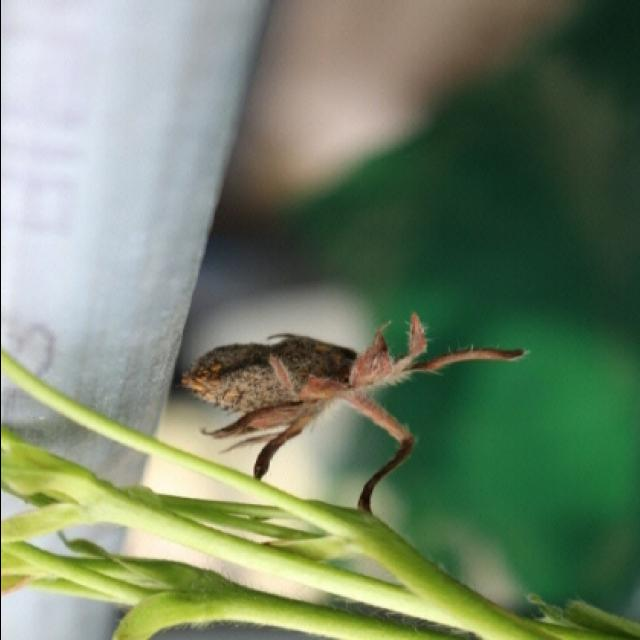Gray Mold: (180, 310, 526, 492)
